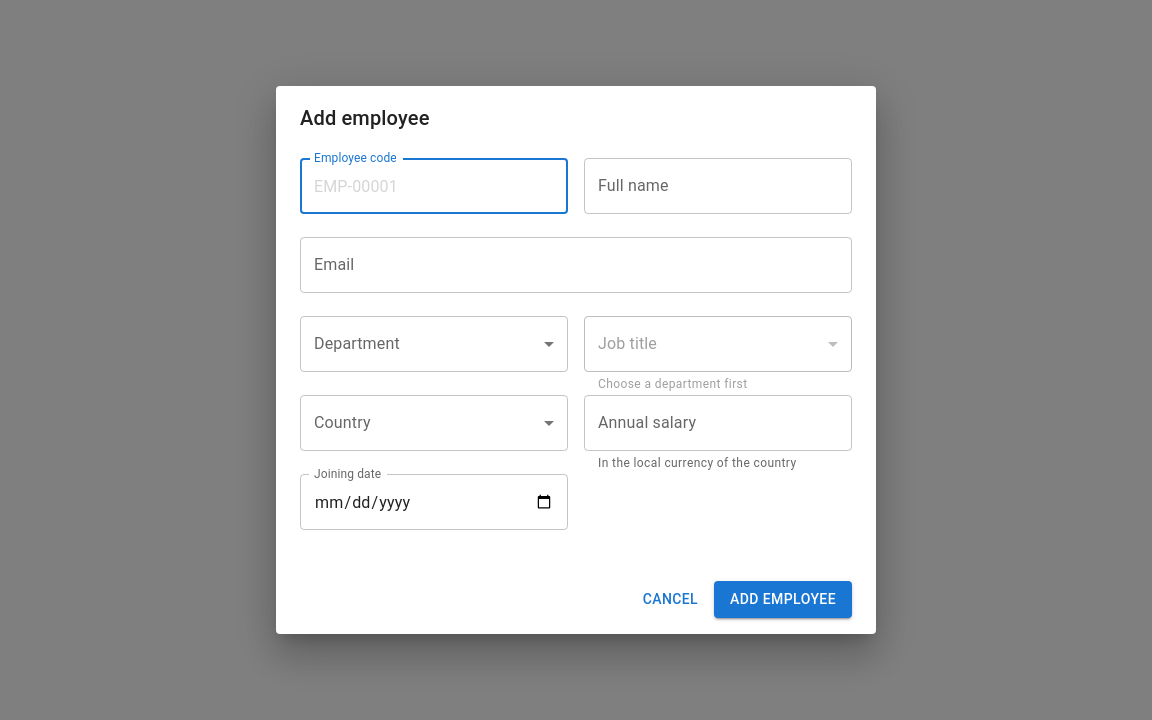
Scenario: EmployeeFormDialog › shows the local currency once a country is chosen
Click the 3rd dropdown named "Country" at (434, 423), box [300,395,568,451]
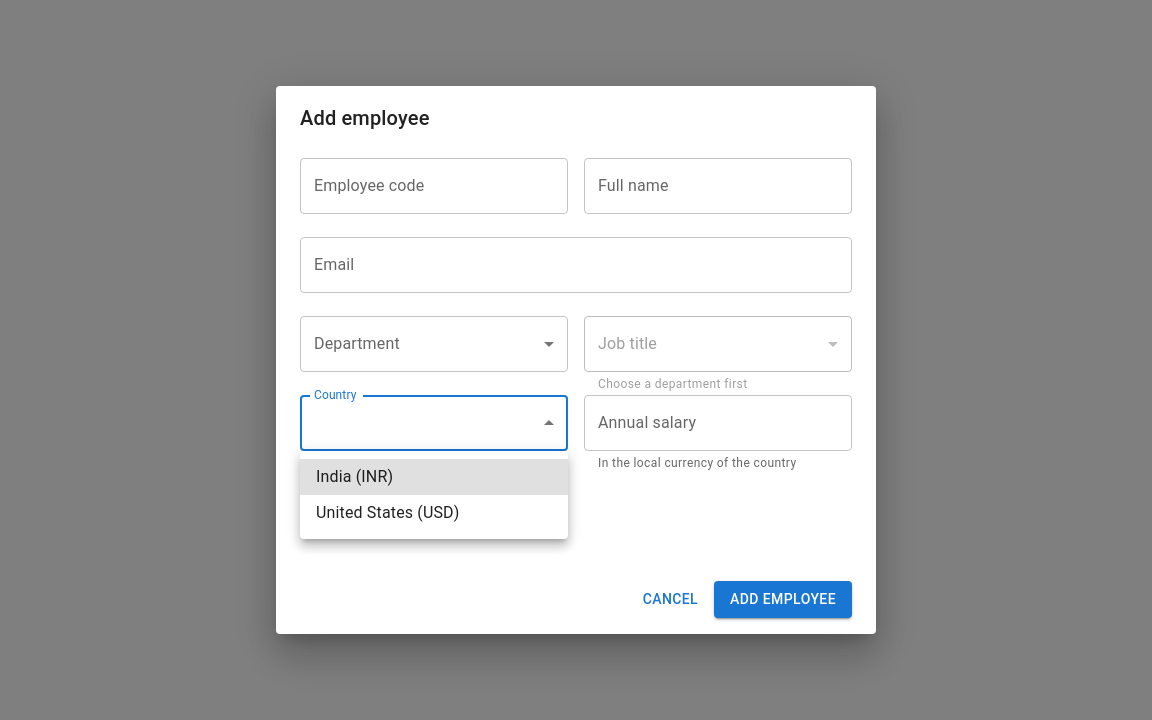
Click the option "India (INR)" at (334, 476), box [300,459,568,495]
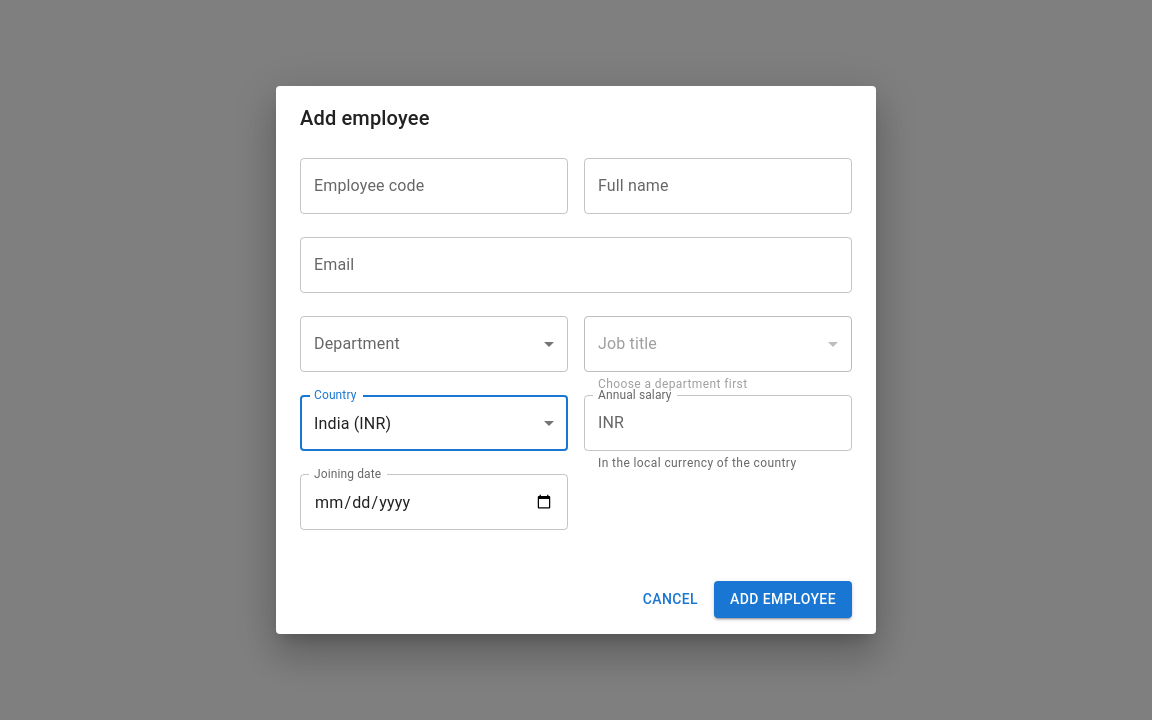
Now the text "INR" is shown, box [598,411,624,435]
